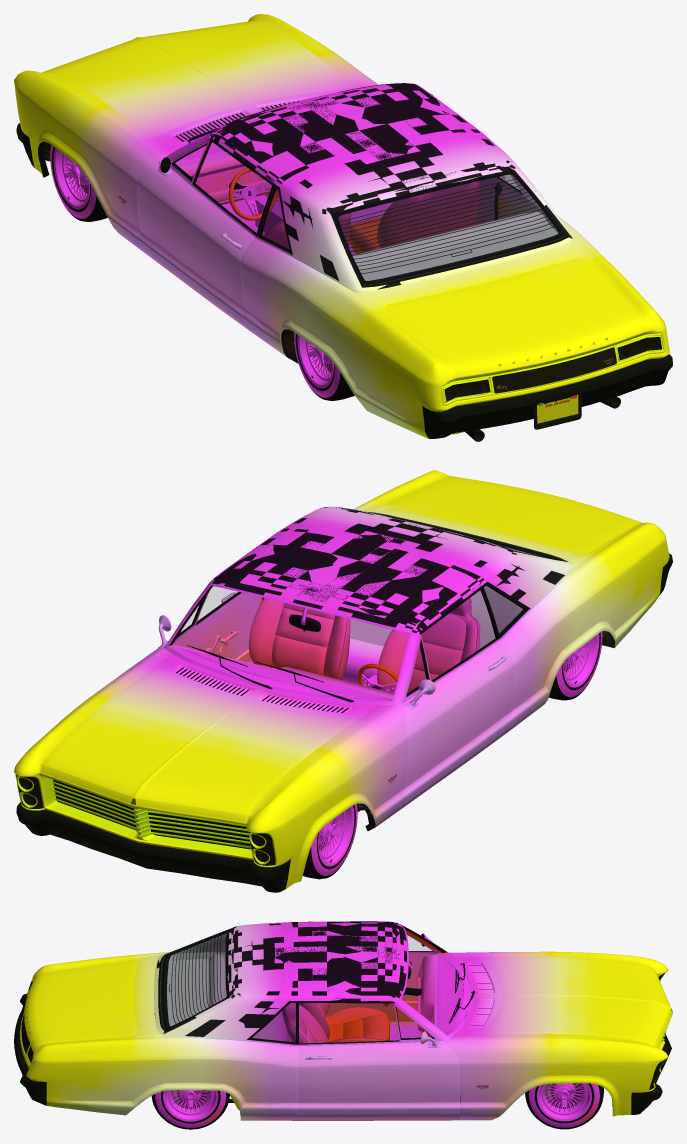
File: buccaneer2.glb
The picture shows the model from 3 angles, top to bottom: view 1: azimuth 30°, elevation 25°; view 2: azimuth 150°, elevation 25°; view 3: azimuth 270°, elevation 25°; orthographic projection. The views are drawn at different scales.
Visible parts, largest first — view 1: bodyshell, extra_4, bonnet, boot, windscreen_r, extra_2, misc_v, wing_lf, door_dside_f, misc_s, misc_2, window_lf (+9 smaller); view 2: bonnet, bodyshell, misc_v, extra_4, wing_lf, extra_2, door_dside_f, boot, misc_a, misc_r, wing_rf, window_lf (+6 smaller); view 3: bodyshell, bonnet, extra_4, wing_rf, door_pside_f, misc_v, extra_2, boot, windscreen_r, window_rf, wheel_rf, wheel_rr (+9 smaller).
Part boxes in pixels (box(x1,y1,x2,y2)): bodyshell: box(141, 84, 669, 438); extra_4: box(209, 84, 573, 290); bonnet: box(44, 21, 359, 137); boot: box(385, 258, 645, 379); windscreen_r: box(334, 172, 563, 284); extra_2: box(210, 83, 572, 289); misc_v: box(175, 142, 558, 269); wing_lf: box(14, 70, 171, 251); door_dside_f: box(136, 141, 256, 323); misc_s: box(422, 354, 672, 438); misc_2: box(338, 174, 559, 282); window_lf: box(194, 142, 271, 233); bonnet: box(40, 667, 359, 822); bodyshell: box(40, 470, 669, 859); misc_v: box(169, 547, 535, 700); extra_4: box(210, 506, 573, 638); wing_lf: box(246, 704, 408, 888); extra_2: box(212, 507, 564, 632); door_dside_f: box(402, 635, 514, 803); boot: box(385, 476, 641, 553); misc_a: box(40, 775, 252, 858); misc_r: box(16, 802, 290, 892); wing_rf: box(14, 647, 171, 810); window_lf: box(422, 590, 496, 680); bodyshell: box(20, 924, 672, 1120); bonnet: box(484, 956, 672, 1047); extra_4: box(155, 921, 406, 1044); wing_rf: box(444, 1033, 668, 1120); door_pside_f: box(299, 1004, 459, 1114); misc_v: box(168, 952, 470, 1043); extra_2: box(157, 921, 406, 1036); boot: box(24, 960, 137, 1050); windscreen_r: box(161, 931, 228, 1028); window_rf: box(299, 1003, 398, 1042); wheel_rf: box(525, 1083, 603, 1129); wheel_rr: box(151, 1090, 229, 1129).
Bounding box in the file's own units: 1.97 × 1.16 × 5.29.
25 materials, 18 textured.
